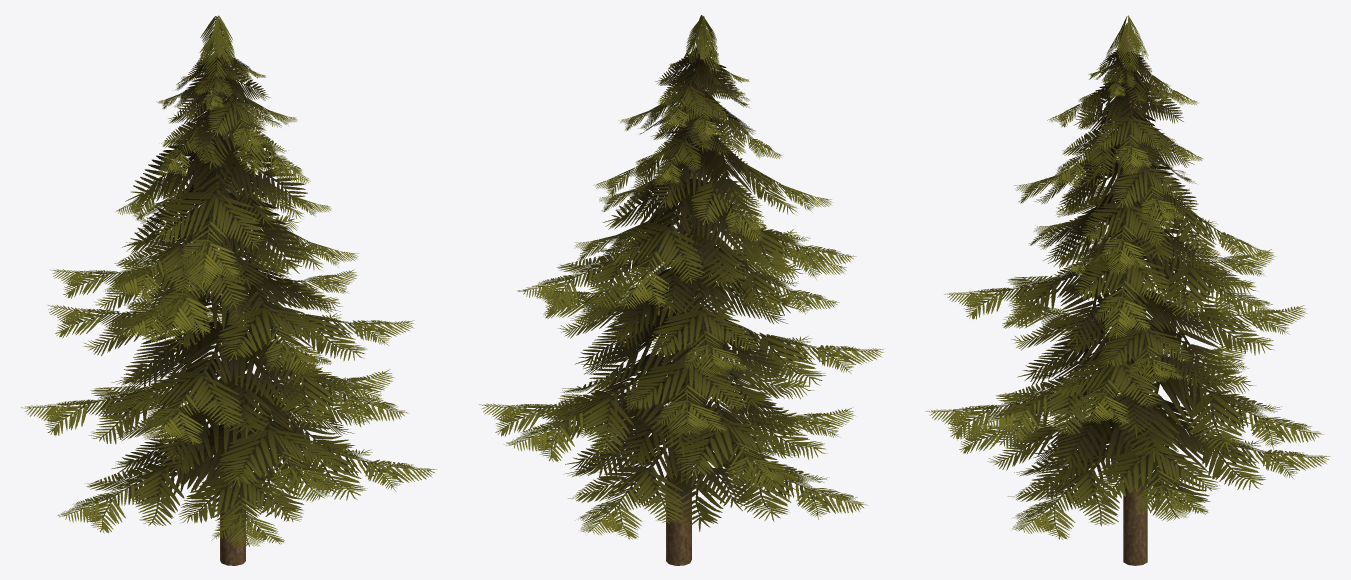
Rendered from tree1.glb.
3 renders of one model, left to right at view 1: azimuth 30°, elevation 25°; view 2: azimuth 150°, elevation 25°; view 3: azimuth 270°, elevation 25°, orthographic. The views are drawn at different scales.
Parts seen in each view (by area): view 1: Leaves/001, Trank.001; view 2: Leaves/001, Trank.001; view 3: Leaves/001, Trank.001.
Part boxes in pixels (<box>): Leaves/001: <box>21,15,436,548</box>; Trank.001: <box>214,29,245,565</box>; Leaves/001: <box>479,15,884,539</box>; Trank.001: <box>666,28,705,565</box>; Leaves/001: <box>925,15,1330,539</box>; Trank.001: <box>1121,28,1147,565</box>.
Bounding box in the file's own units: 217 × 308 × 217.
Materials: 2 (2 with a texture image).
